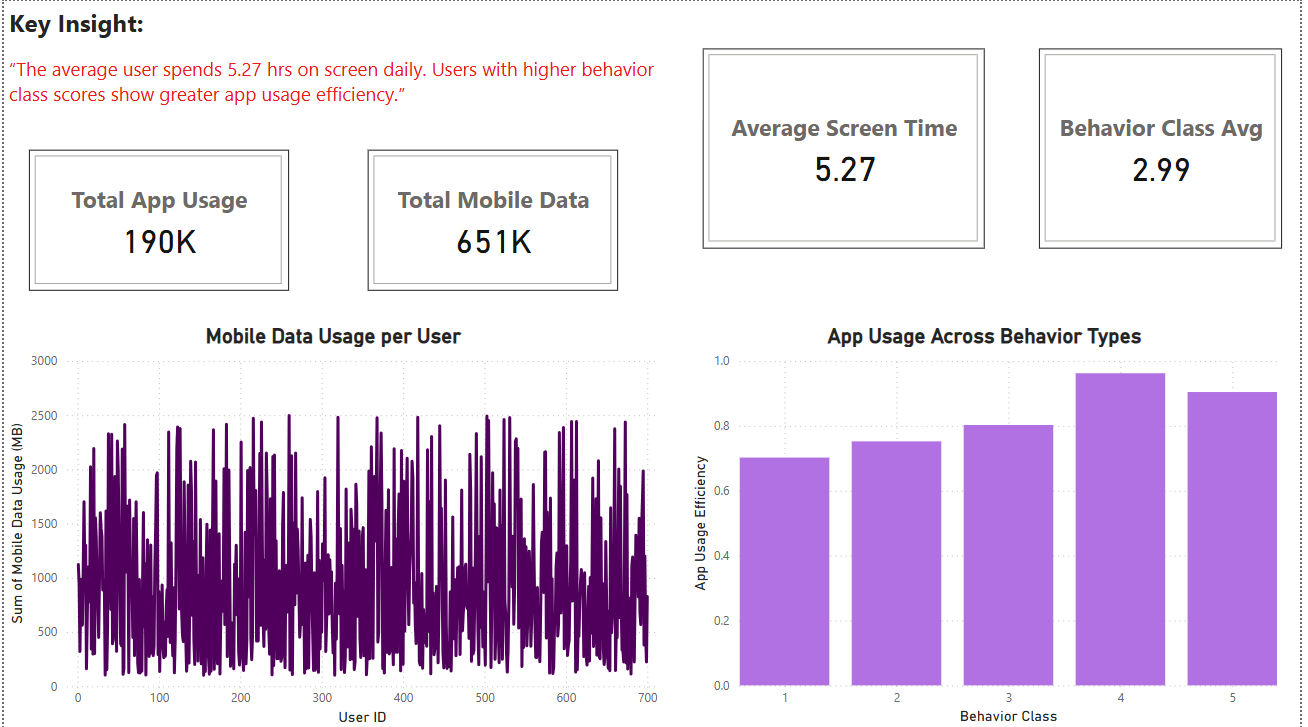

The dashboard page shown, as its layout file describes it:
{"tool":"powerbi","page":{"name":"Overview Dashboard","canvas":[1280,720],"ordinal":0},"visuals":[{"type":"lineChart","title":"Mobile Data Usage per User","fields":{"Category":["User Behaviour Data.User ID"],"Y":["Sum(User Behaviour Data.Mobile Data Usage (MB))"]},"box":[0,317.9,650.5,402.3],"z":0},{"type":"clusteredColumnChart","title":"App Usage Across Behavior Types","fields":{"Category":["User Behaviour Data.Behavior Class"],"Y":["User Behaviour Data.App Usage Efficiency"]},"box":[674.3,318.6,588.6,401.4],"z":1000},{"type":"cardVisual","fields":{"Data":["User Behaviour Data.Total App Usage"]},"box":[24.5,146.7,256.8,139.4],"z":2000},{"type":"cardVisual","fields":{"Data":["User Behaviour Data.Total Mobile Data"]},"box":[359.5,146.7,247,139.4],"z":3000},{"type":"cardVisual","title":"Behavior Class Avg","fields":{"Data":["User Behaviour Data.Behavior Class Avg"]},"box":[1022.5,47.5,240,197.5],"z":4000},{"type":"cardVisual","fields":{"Data":["User Behaviour Data.Average Screen Time"]},"box":[690,47.5,278.8,197.5],"z":5000},{"type":"textbox","box":[0,0,689.7,117.4],"z":6000}]}

Visuals, with their boxes in screenshot pixels (x1, y1, x2, y2), scaled from the page's 1280x720 canvas onto the 1308x727 screenshot:
"Mobile Data Usage per User" lineChart: crop(0, 321, 665, 726)
"App Usage Across Behavior Types" clusteredColumnChart: crop(689, 322, 1291, 726)
cardVisual - User Behaviour Data.Total App Usage: crop(25, 148, 287, 289)
cardVisual - User Behaviour Data.Total Mobile Data: crop(367, 148, 620, 289)
"Behavior Class Avg" cardVisual: crop(1045, 48, 1290, 247)
cardVisual - User Behaviour Data.Average Screen Time: crop(705, 48, 990, 247)
textbox: crop(0, 0, 705, 119)
